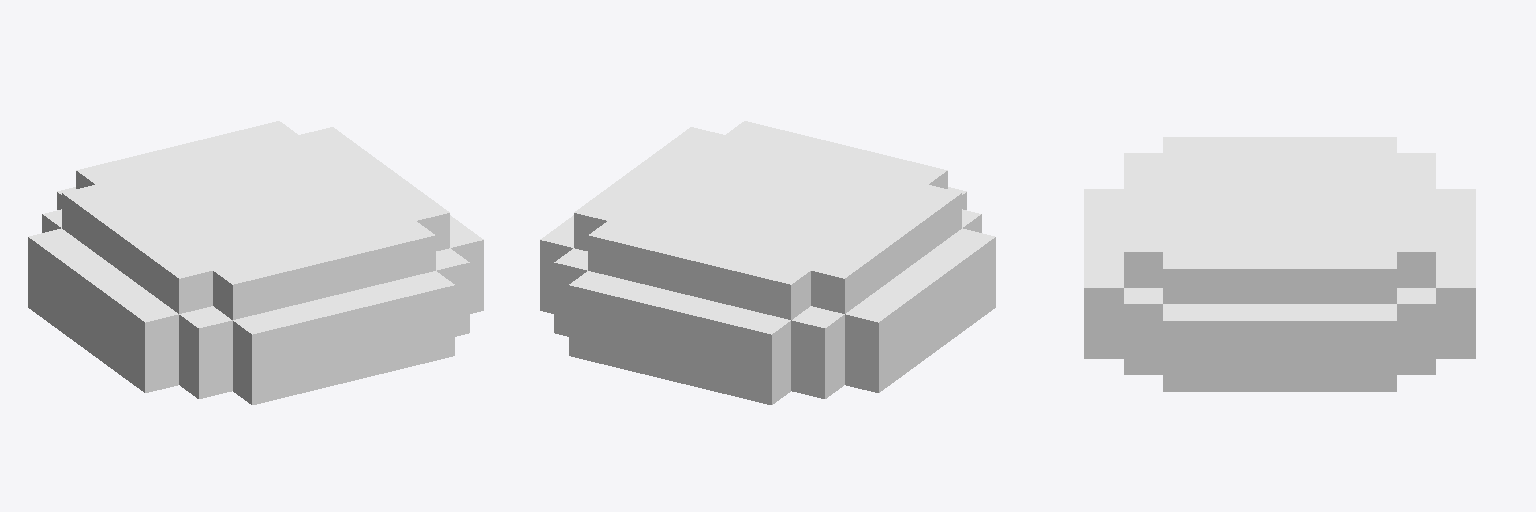
Rendered from buns_top.obj.
The picture shows the model from 3 angles: view 1: azimuth 30°, elevation 25°; view 2: azimuth 150°, elevation 25°; view 3: azimuth 270°, elevation 25°; orthographic projection.
Size of the model in its own units: 10 by 3 by 10.